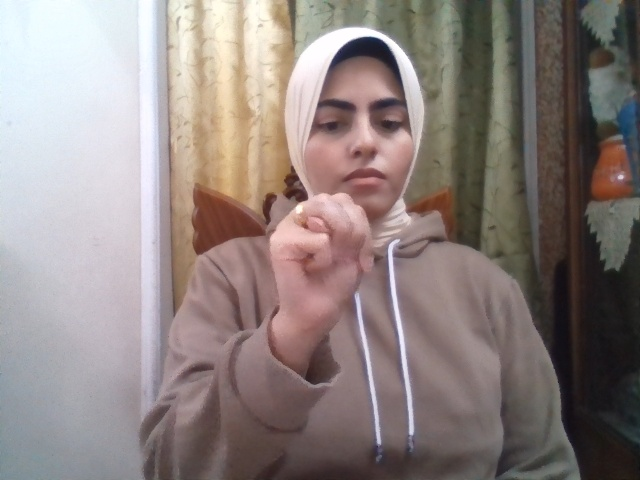M: (270, 193, 376, 332)
